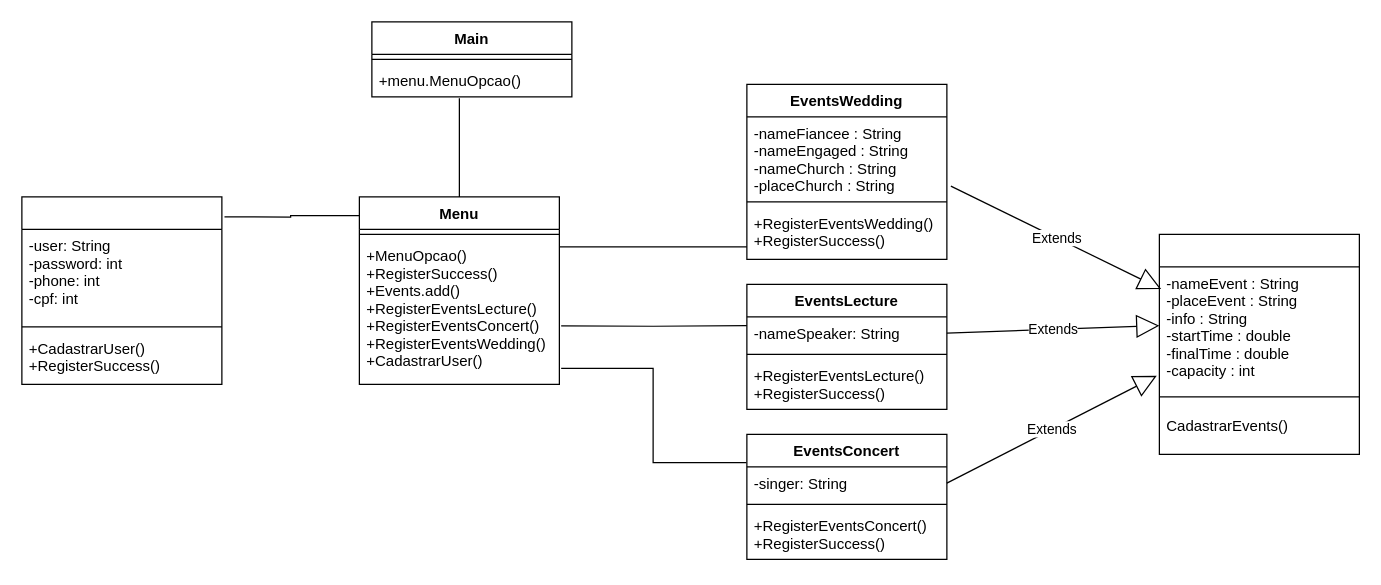
Image size: 1381x585. Some labels were removed from this diagram. Here are the shapes that lost their labels. From the top down, the box of each, then its label:
(21, 196, 222, 384): RegisterUser
(1158, 233, 1359, 454): RegisterEvents
